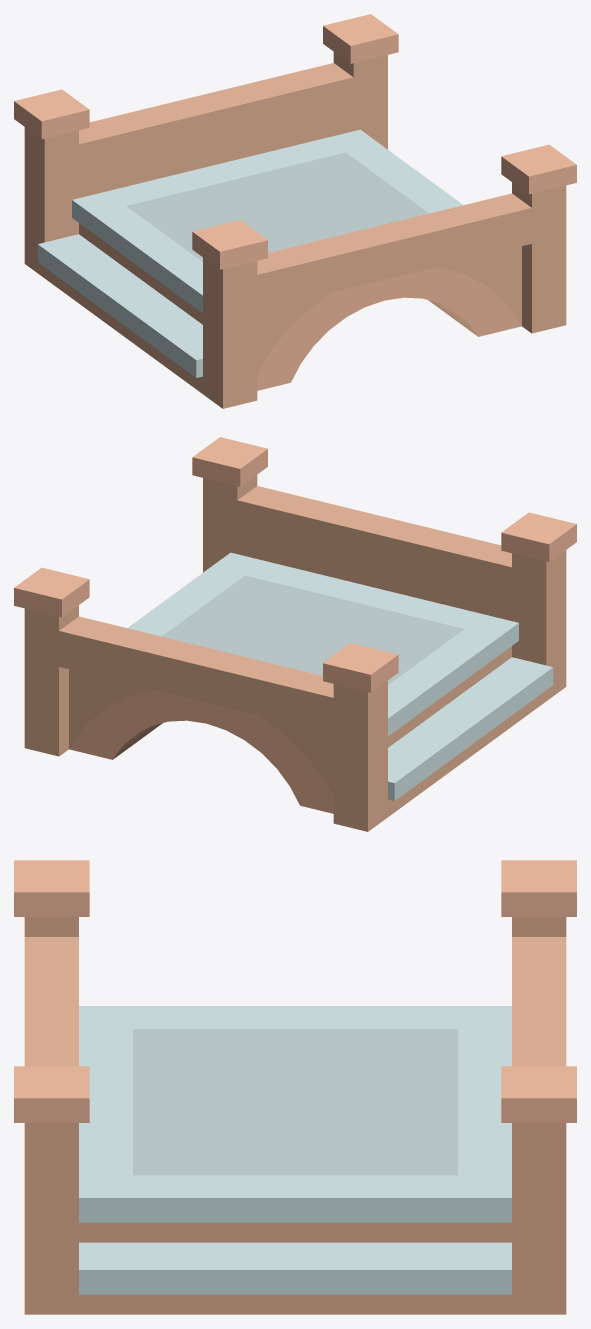
The model's file is bridge_woodRound.glb.
The picture shows the model from 3 angles, top to bottom: view 1: azimuth 30°, elevation 25°; view 2: azimuth 150°, elevation 25°; view 3: azimuth 270°, elevation 25°; orthographic projection. The views are drawn at different scales.
Visible parts, largest first — view 1: bridge_woodRound; view 2: bridge_woodRound; view 3: bridge_woodRound.
Part boxes in pixels (left/top/right/bottom): bridge_woodRound: left=14, top=14, right=576, bottom=408; bridge_woodRound: left=14, top=437, right=576, bottom=831; bridge_woodRound: left=14, top=860, right=576, bottom=1314.
Bounding box in the file's own units: 1.04 × 0.4499 × 1.04.
